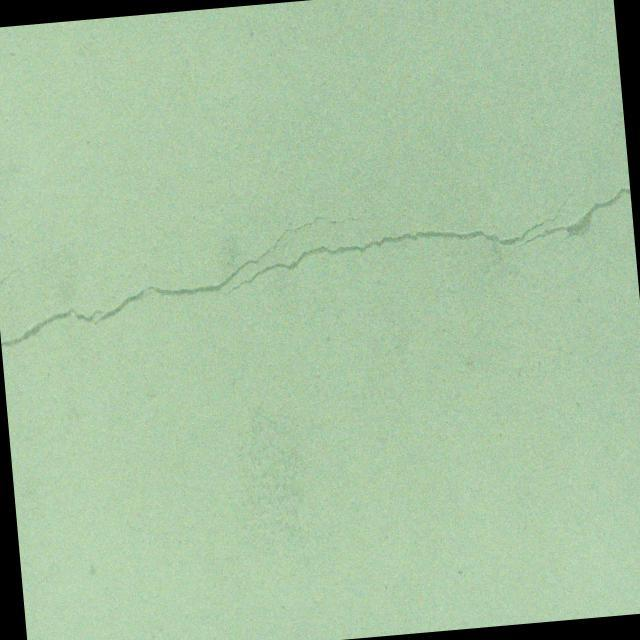crack: (0, 186, 639, 348), (0, 266, 28, 285), (378, 208, 405, 220)
